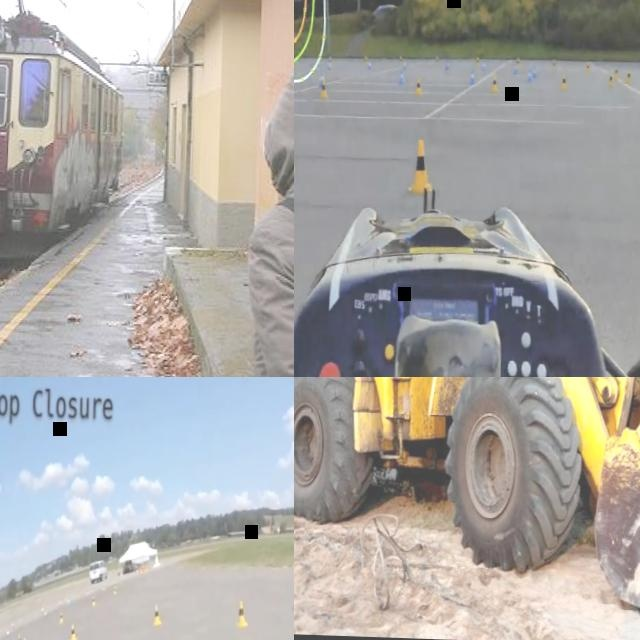NO-Hardhat: (261, 60, 294, 143)
Safety Cone: (406, 134, 436, 193), (235, 600, 249, 631), (151, 603, 162, 628), (317, 74, 327, 99), (413, 73, 422, 97), (489, 71, 498, 92), (558, 72, 567, 93), (623, 68, 632, 89), (468, 65, 476, 87), (67, 623, 77, 640), (612, 64, 620, 85), (397, 66, 405, 87), (523, 67, 531, 88), (604, 70, 612, 90), (57, 611, 63, 625), (90, 594, 96, 606), (15, 632, 22, 640), (111, 583, 116, 594)
machinery: (294, 377, 640, 640)
vehicle: (294, 178, 640, 377), (89, 559, 107, 584)
